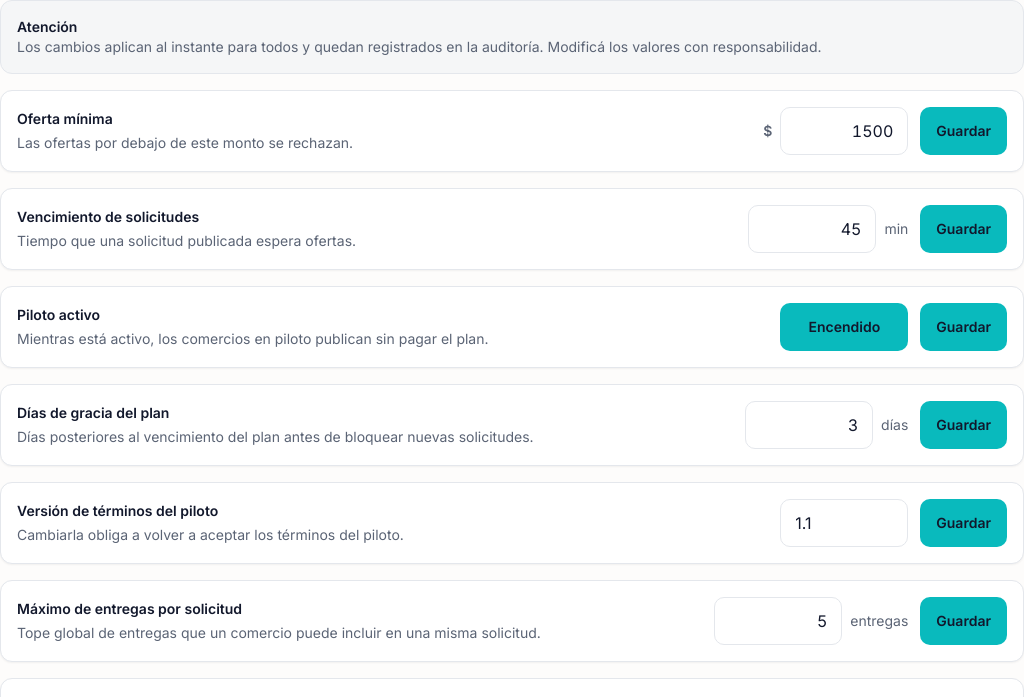
T-123: PlatformSettingsForm (A04) › no envía un piso inválido y explica el error en el campo
Replace the text in the field labelled "Oferta mínima" with "0": [844, 131] box 780,107 -> 908,155
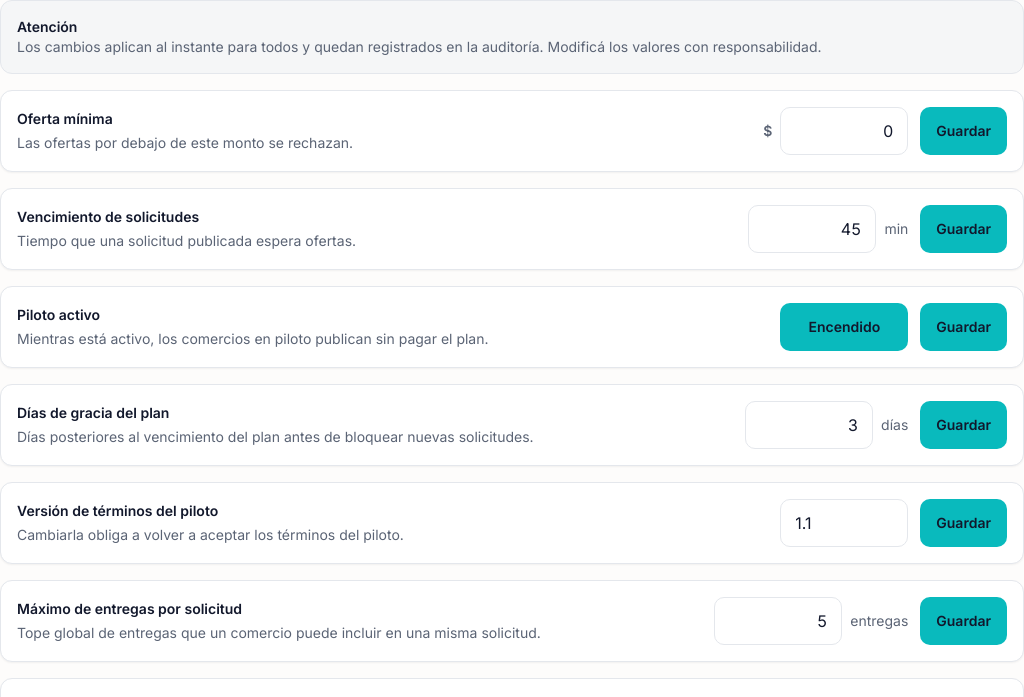
Click the button "Guardar" in the row of "Oferta mínima": [964, 131] box 920,107 -> 1007,155
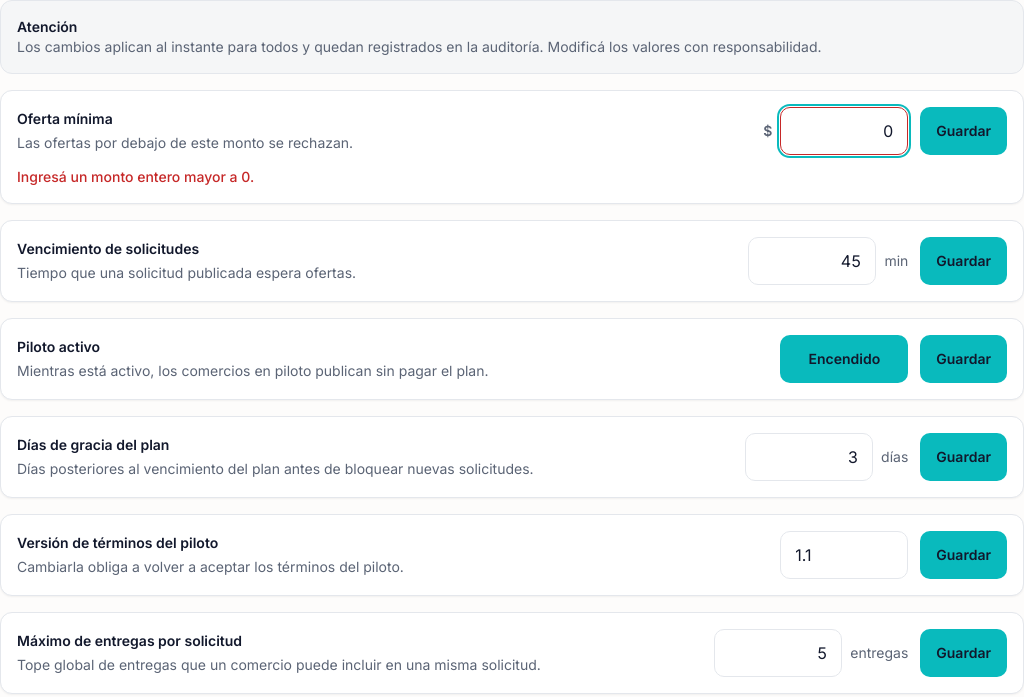
expect the message "Ingresá un monto entero mayor a 0." is shown: met, box 17,168 -> 254,185
